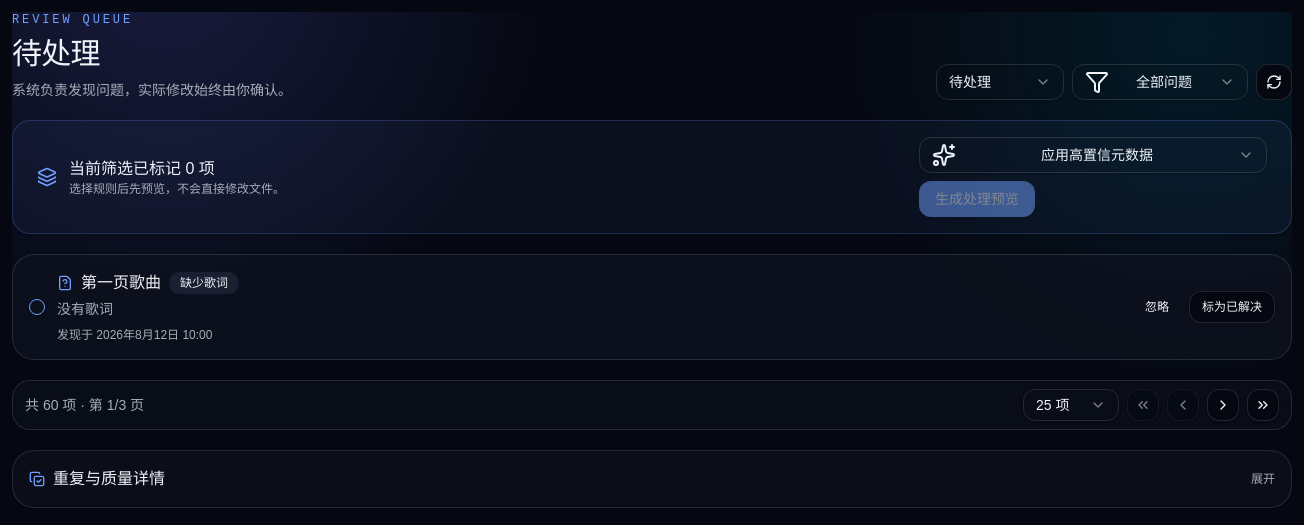
Scenario: ReviewPanel › 只渲染当前页并可切换到下一页
This screenshot has width=1304, height=525.
Expected: the heading "第一页歌曲" is shown, top-left (81, 271), bottom-right (161, 295)
Click the button named "下一页" at (1223, 405), box top-left (1207, 389), bottom-right (1239, 421)
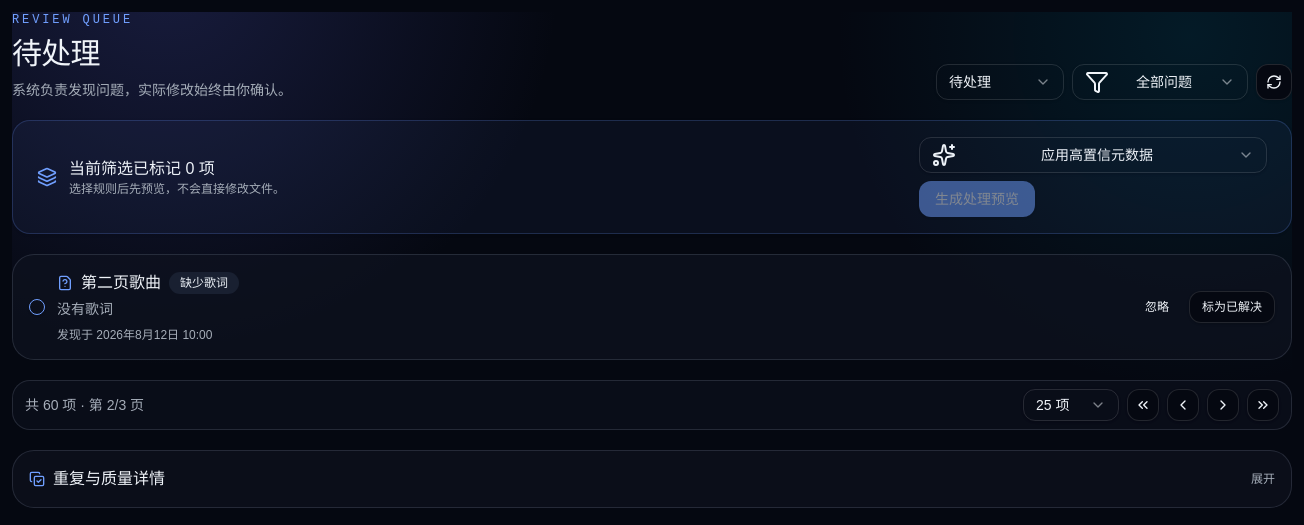
Expected: the heading "第二页歌曲" is shown, top-left (81, 271), bottom-right (161, 295)
